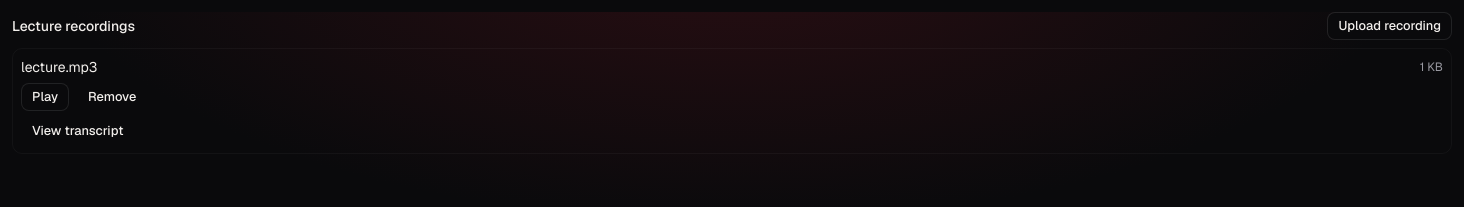
Test: LecturePanel › transcription (P3-15) › shows a View transcript toggle when completed, revealing the text only once expanded
expect the text "the whole lecture, verbatim" is not shown: met
Click the button "View transcript" at x=78, y=131, box [21, 117, 134, 145]
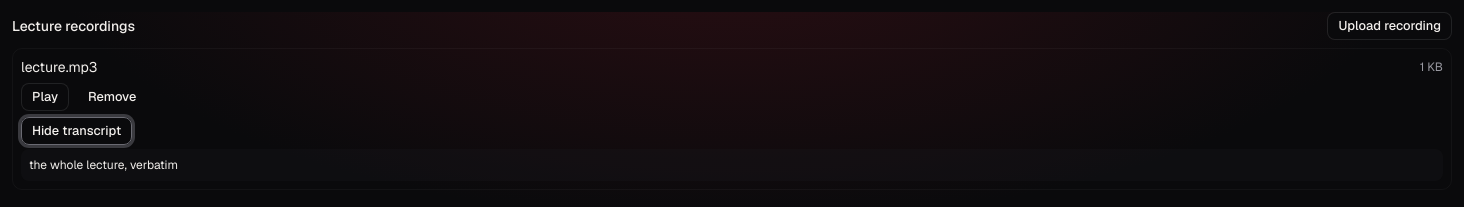
expect the text "the whole lecture, verbatim" is shown: met, box [21, 149, 1443, 181]
Click the button "Hide transcript" at x=77, y=131, box [21, 117, 132, 145]
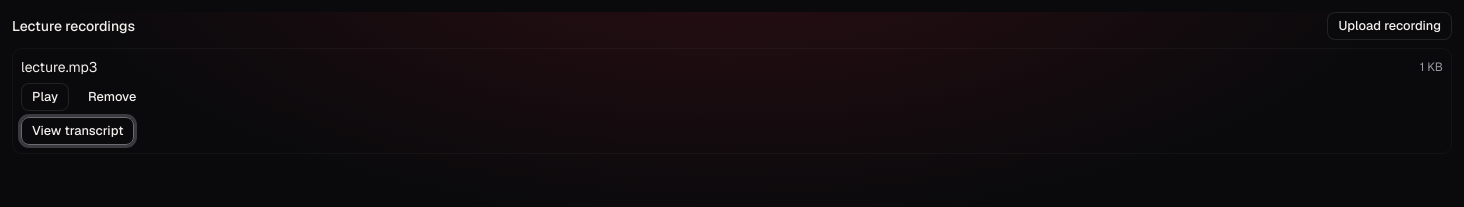
expect the text "the whole lecture, verbatim" is gone: met
